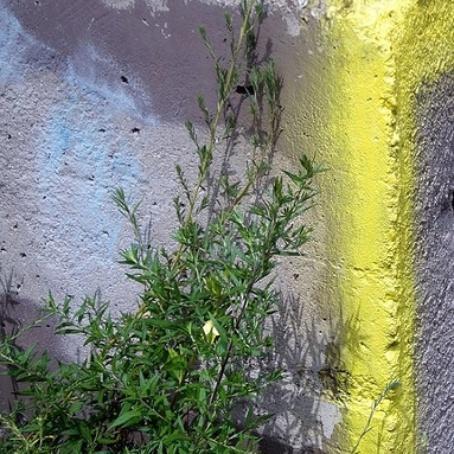vegetation: (23, 13, 333, 454)
